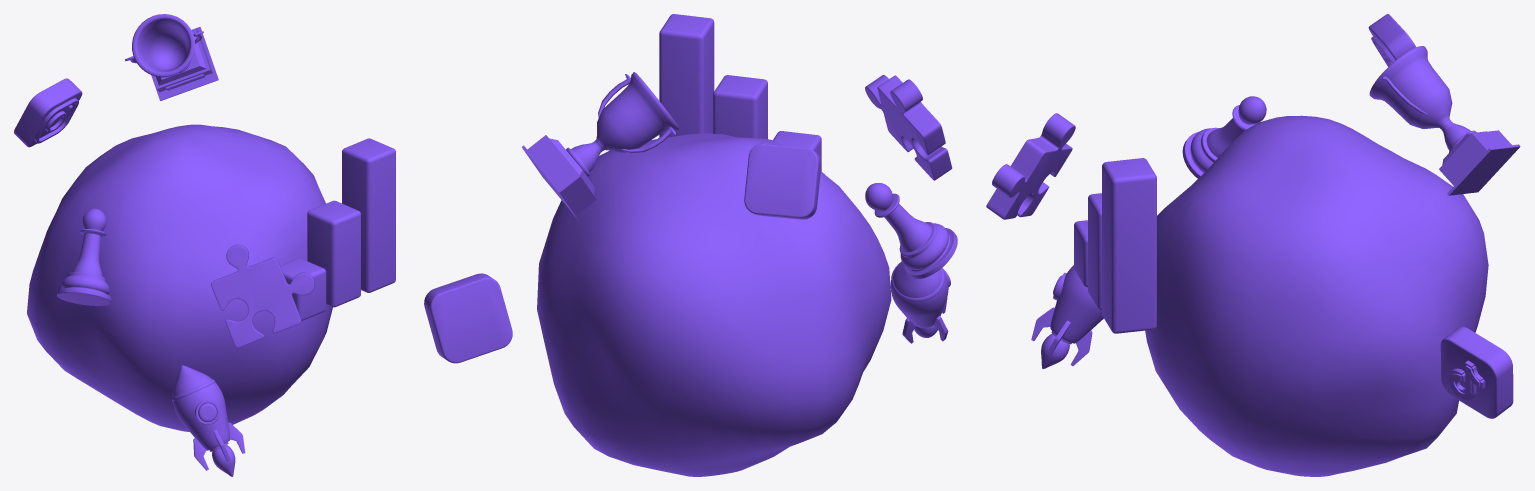
The model's file is growthCluster.glb.
3 views of the same model, side by side, from view 1: azimuth 30°, elevation 25°; view 2: azimuth 150°, elevation 25°; view 3: azimuth 270°, elevation 25° (orthographic). The views are drawn at different scales.
Visible parts, largest first — view 1: blob, Cube.001, puzzle, trophy, Cube.002, rocket, pawn, background.001, Cube.006, inner.001; view 2: blob, trophy, Cube.001, background.002, background.001, puzzle, pawn, rocket, Cube.002, Cube.006; view 3: blob, Cube.001, trophy, puzzle, background.002, rocket, pawn, Cube.002, background.001, inner.002, Cube.006.
Part boxes in pixels (<box>): blob: <box>27,124,332,431</box>; Cube.001: <box>342,138,395,292</box>; puzzle: <box>211,244,314,347</box>; trophy: <box>125,14,218,100</box>; Cube.002: <box>307,200,360,307</box>; rocket: <box>172,365,245,476</box>; pawn: <box>57,208,111,305</box>; background.001: <box>14,78,82,147</box>; Cube.006: <box>280,258,326,320</box>; inner.001: <box>34,98,78,143</box>; blob: <box>537,133,891,476</box>; trophy: <box>522,72,678,222</box>; Cube.001: <box>659,14,714,137</box>; background.002: <box>424,273,512,363</box>; background.001: <box>744,143,821,219</box>; puzzle: <box>865,75,952,180</box>; pawn: <box>865,183,957,278</box>; rocket: <box>890,261,950,343</box>; Cube.002: <box>713,75,767,138</box>; Cube.006: <box>773,131,821,170</box>; blob: <box>1145,115,1488,476</box>; Cube.001: <box>1102,158,1156,333</box>; trophy: <box>1369,46,1520,195</box>; puzzle: <box>986,113,1075,219</box>; background.002: <box>1440,326,1513,418</box>; rocket: <box>1031,265,1103,368</box>; pawn: <box>1182,96,1266,178</box>; Cube.002: <box>1088,193,1101,310</box>; background.001: <box>1368,14,1416,60</box>; inner.002: <box>1448,360,1485,400</box>; Cube.006: <box>1074,220,1087,287</box>.
Bounding box in the file's own units: 1.28 × 1.33 × 1.49.
